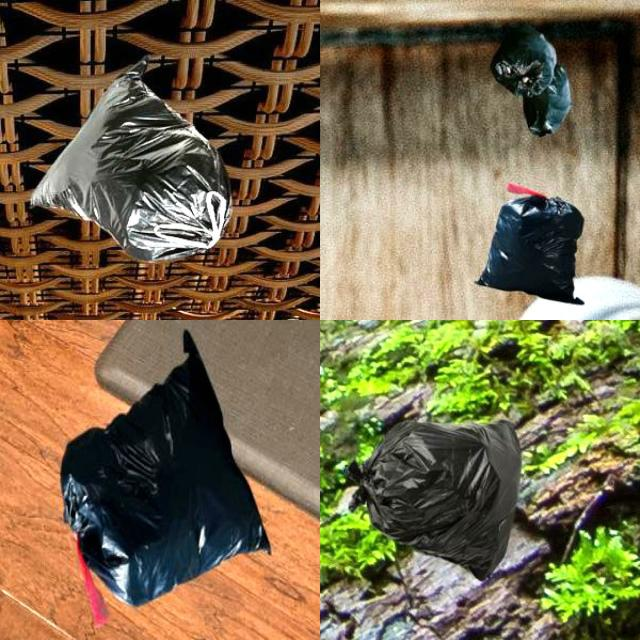Single-layer Plastic: (61, 331, 270, 627), (31, 60, 231, 261), (349, 420, 521, 578), (476, 182, 584, 305)
